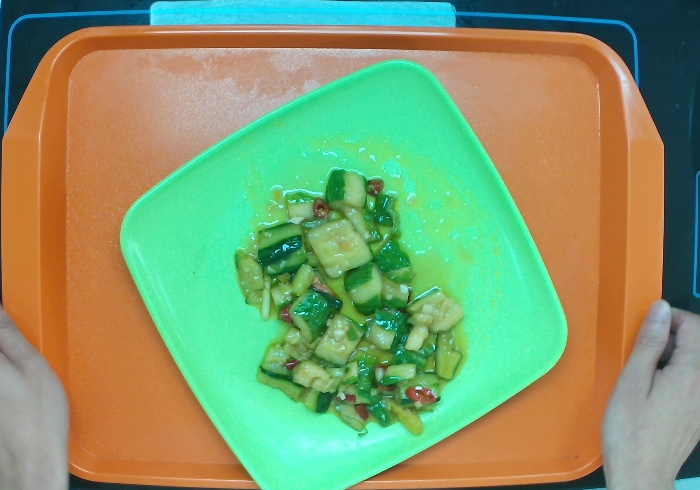ZNLD-Lv_Fang_Pan: (115, 53, 577, 490)
